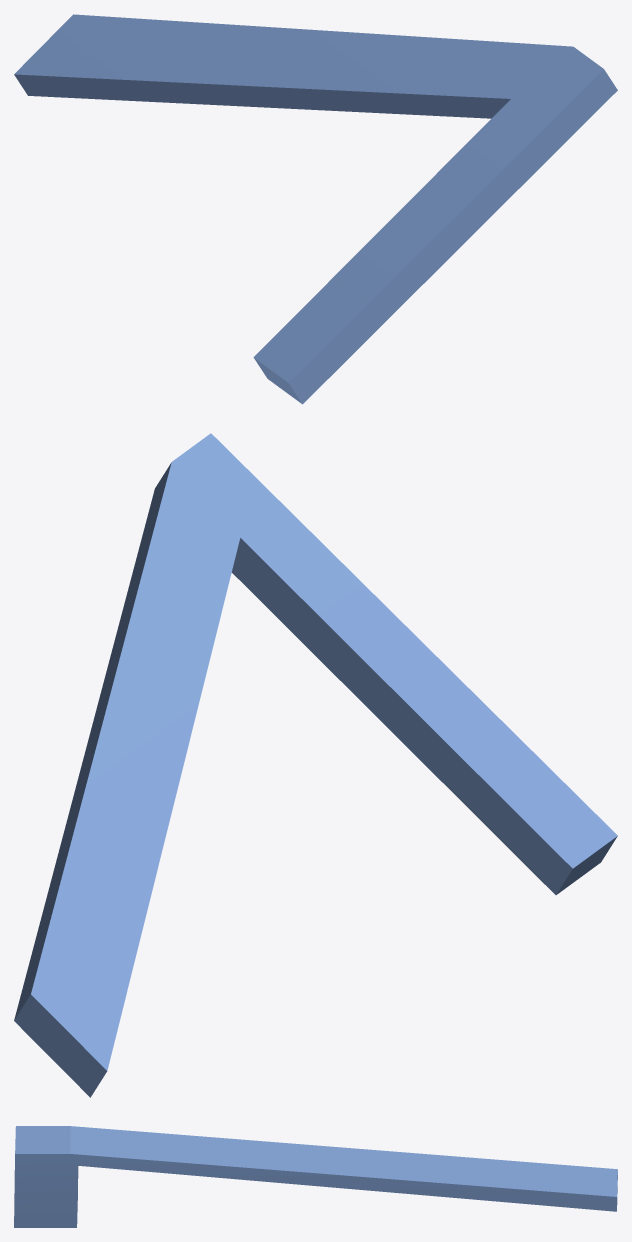
Rendered from New_Number_7.gltf.
3 renders of one model, top to bottom at view 1: azimuth 30°, elevation 25°; view 2: azimuth 150°, elevation 25°; view 3: azimuth 270°, elevation 25°, orthographic. The views are drawn at different scales.
Visible parts, largest first — view 1: Part 322; view 2: Part 322; view 3: Part 322.
Part boxes in pixels (x1,y1,x2,y2): Part 322: [14, 14, 617, 404]; Part 322: [14, 433, 617, 1097]; Part 322: [14, 1126, 617, 1227].
Size of the model in its own units: 0.00312 by 0.00236 by 0.00551.
